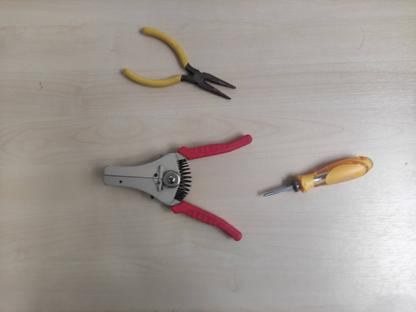Screwdriver: (260, 153, 375, 198)
